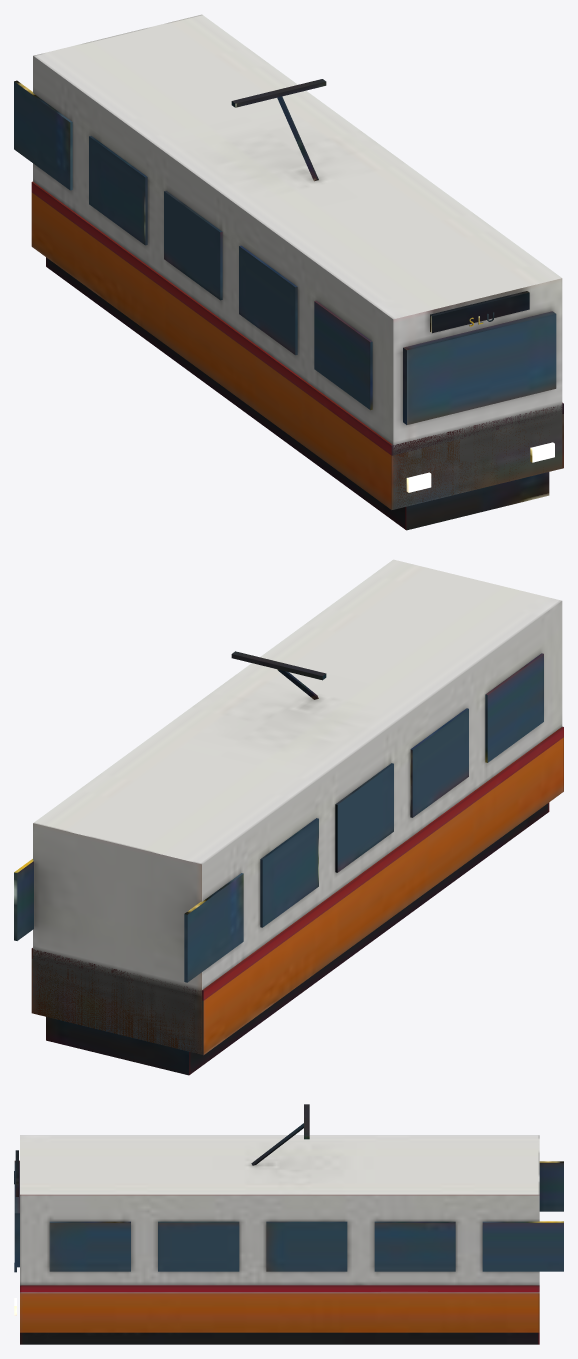
File: tranvia_seattle.glb
3 views of the same model, one above another, from view 1: azimuth 30°, elevation 25°; view 2: azimuth 150°, elevation 25°; view 3: azimuth 270°, elevation 25° (orthographic). The views are drawn at different scales.
Parts seen in each view (by area): view 1: tranvia_seattle; view 2: tranvia_seattle; view 3: tranvia_seattle.
Part boxes in pixels (box(x1,y1,x2,y2)): tranvia_seattle: box(14, 14, 563, 530); tranvia_seattle: box(14, 559, 563, 1075); tranvia_seattle: box(14, 1104, 563, 1344).
Bounding box in the file's own units: 2.67 × 4.06 × 10.16.
1 material, 1 textured.
